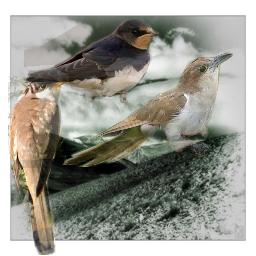Cuckoo: (62, 52, 233, 167), (8, 76, 73, 255)
Swallow: (24, 17, 159, 103)
